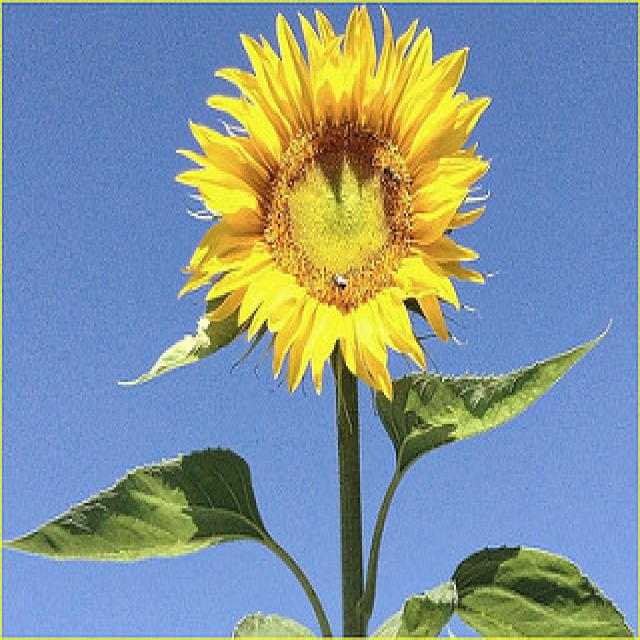sunflower: (167, 4, 501, 409)
